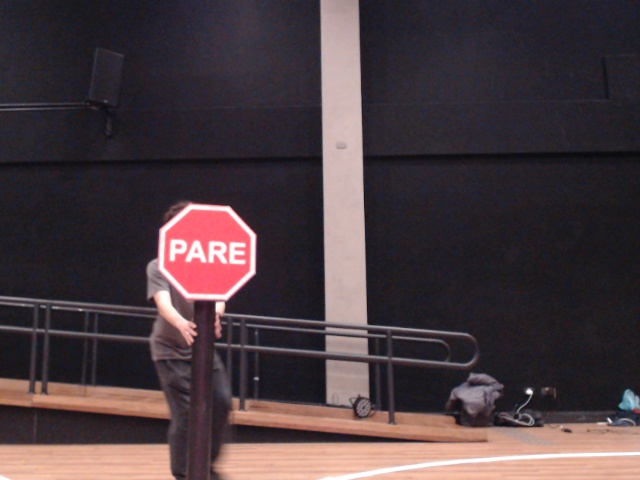SEMAFORO: (145, 191, 289, 323)
